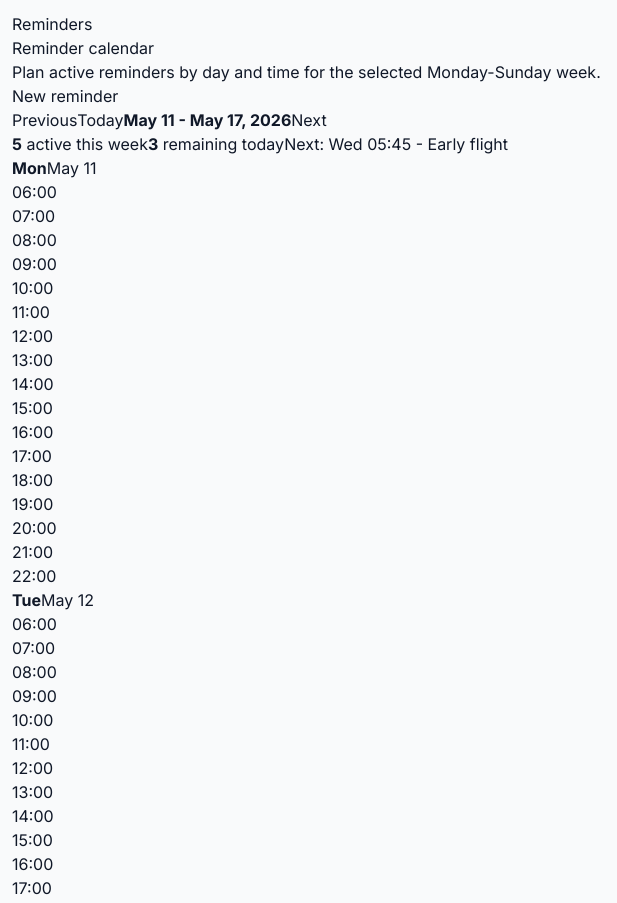
Test: CustomerRemindersPage › resets the selected week to the current week from the Today control
Click the button "Next" at point(309, 120), box [291,108,327,132]
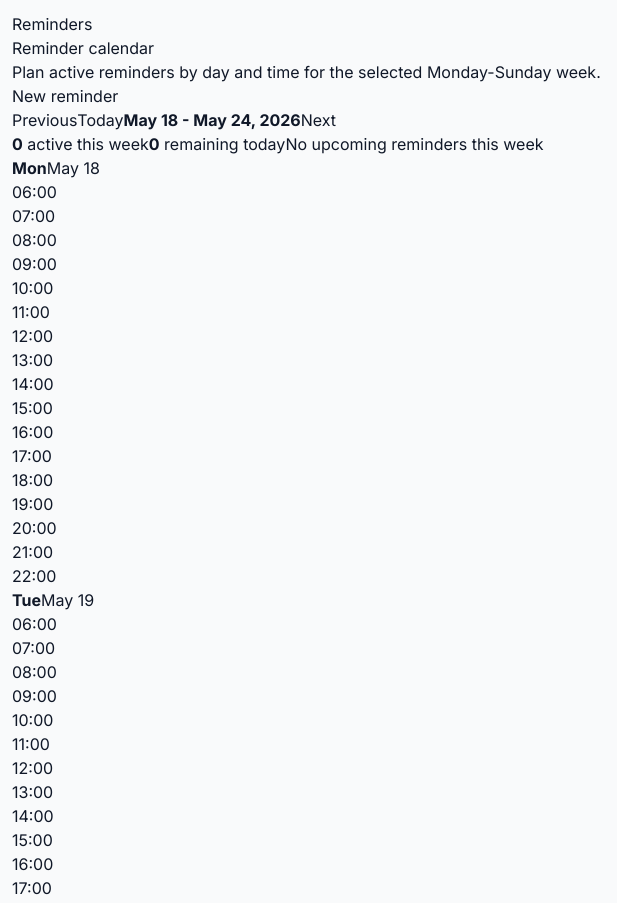
Expected: the text "May 18 - May 24, 2026" is shown, [124,110,301,130]
Expected: the text "0 active this week" is shown, [12,134,149,154]
Expected: the text "No upcoming reminders this week" is shown, [285,134,544,154]
Click the button "Today" at point(100, 120), box [77,108,124,132]
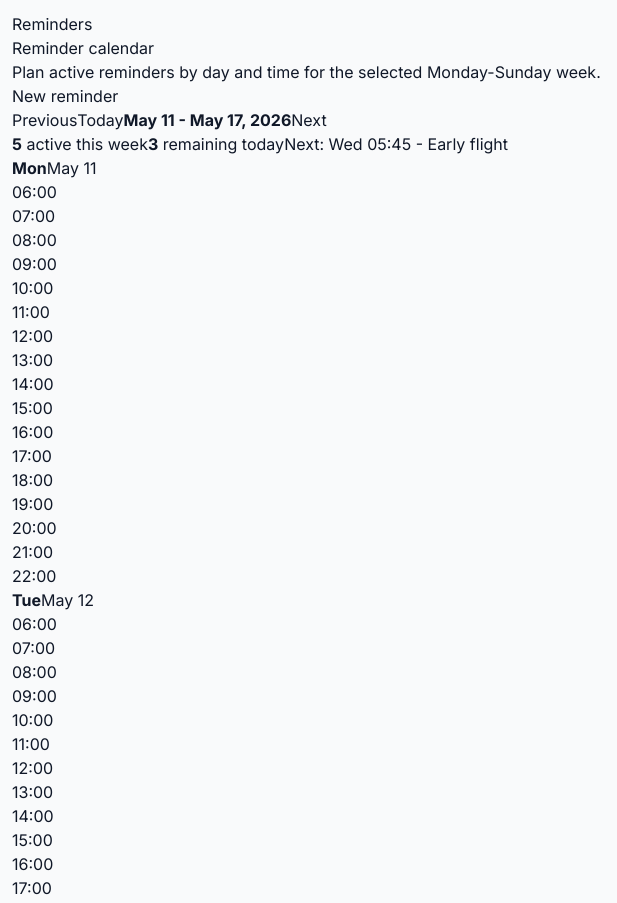
Expected: the text "May 11 - May 17, 2026" is shown, [124,110,291,130]
Expected: the text "5 active this week" is shown, [12,134,148,154]
